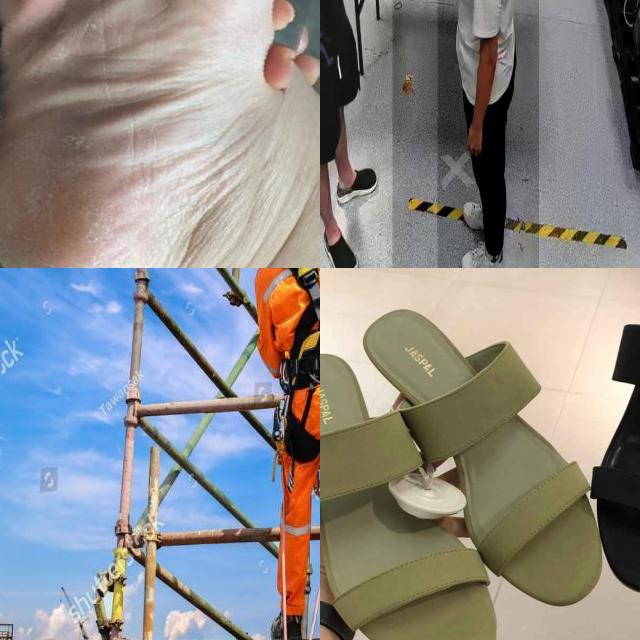Barefoots: (0, 0, 320, 268)
Harness: (280, 268, 320, 394)
Sandals: (320, 279, 610, 640), (560, 268, 640, 640)
hand_noglove: (465, 119, 483, 156)
person: (437, 0, 539, 268), (320, 0, 392, 268)
shoes: (335, 159, 382, 206), (320, 217, 362, 268), (458, 192, 504, 234), (458, 234, 510, 268)
